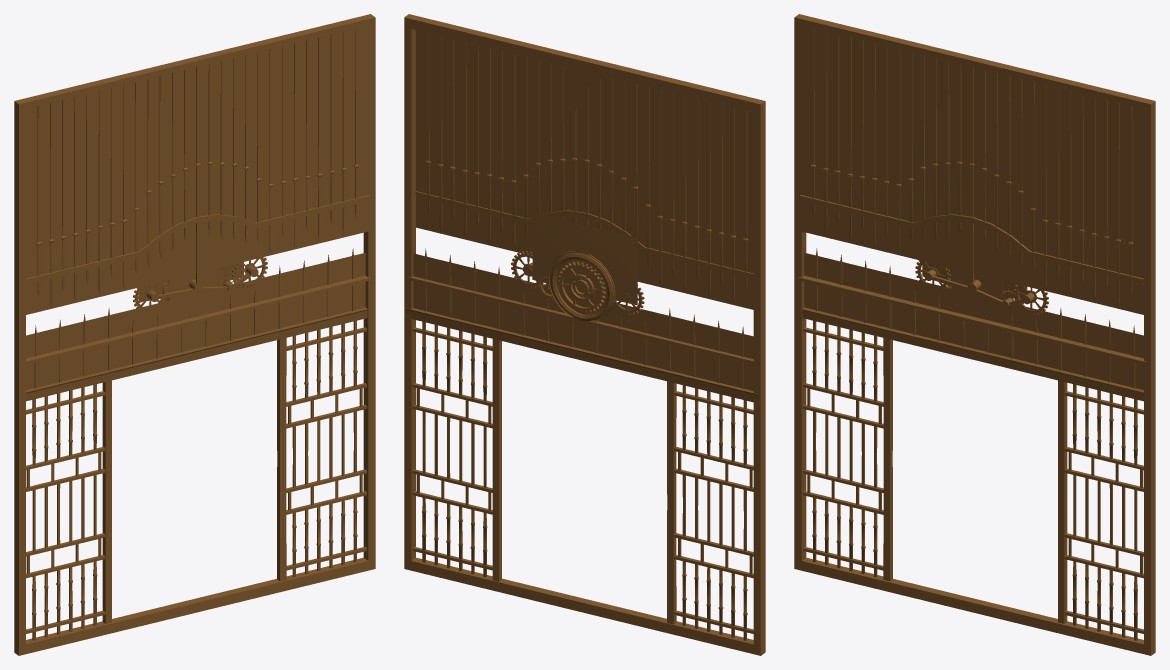
Rendered from SM_gatedoorbase.fbx.
The picture shows the model from 3 angles, left to right: view 1: azimuth 30°, elevation 25°; view 2: azimuth 150°, elevation 25°; view 3: azimuth 330°, elevation 25°; orthographic projection.
Visible parts, largest first — view 1: doortle_low.001; view 2: doortle_low.001; view 3: doortle_low.001.
Part boxes in pixels (bbox=[...]): doortle_low.001: bbox=[14, 14, 375, 655]; doortle_low.001: bbox=[404, 14, 765, 655]; doortle_low.001: bbox=[794, 14, 1155, 655].
Bounding box in the file's own units: 459 × 679 × 17.84.
